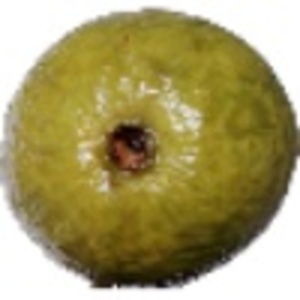goiaba: (3, 6, 297, 293)
